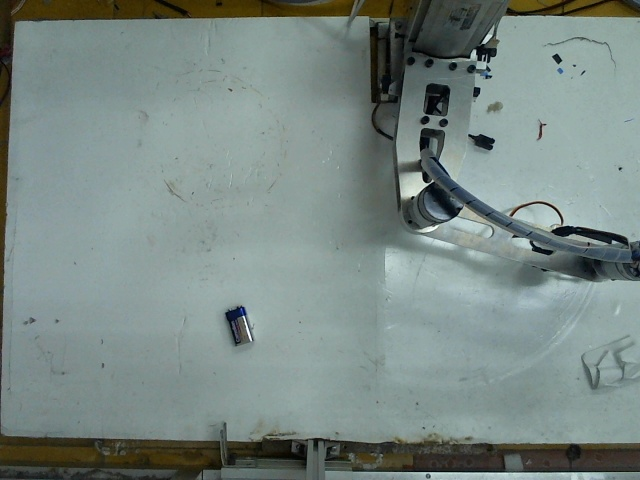battery: (219, 306, 257, 344)
